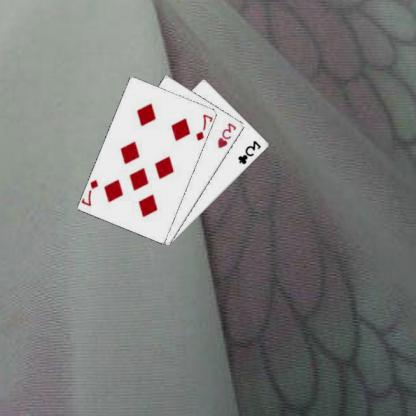3C: (237, 138, 265, 166)
3H: (217, 120, 240, 150)
7D: (195, 111, 215, 142), (82, 177, 102, 207)
